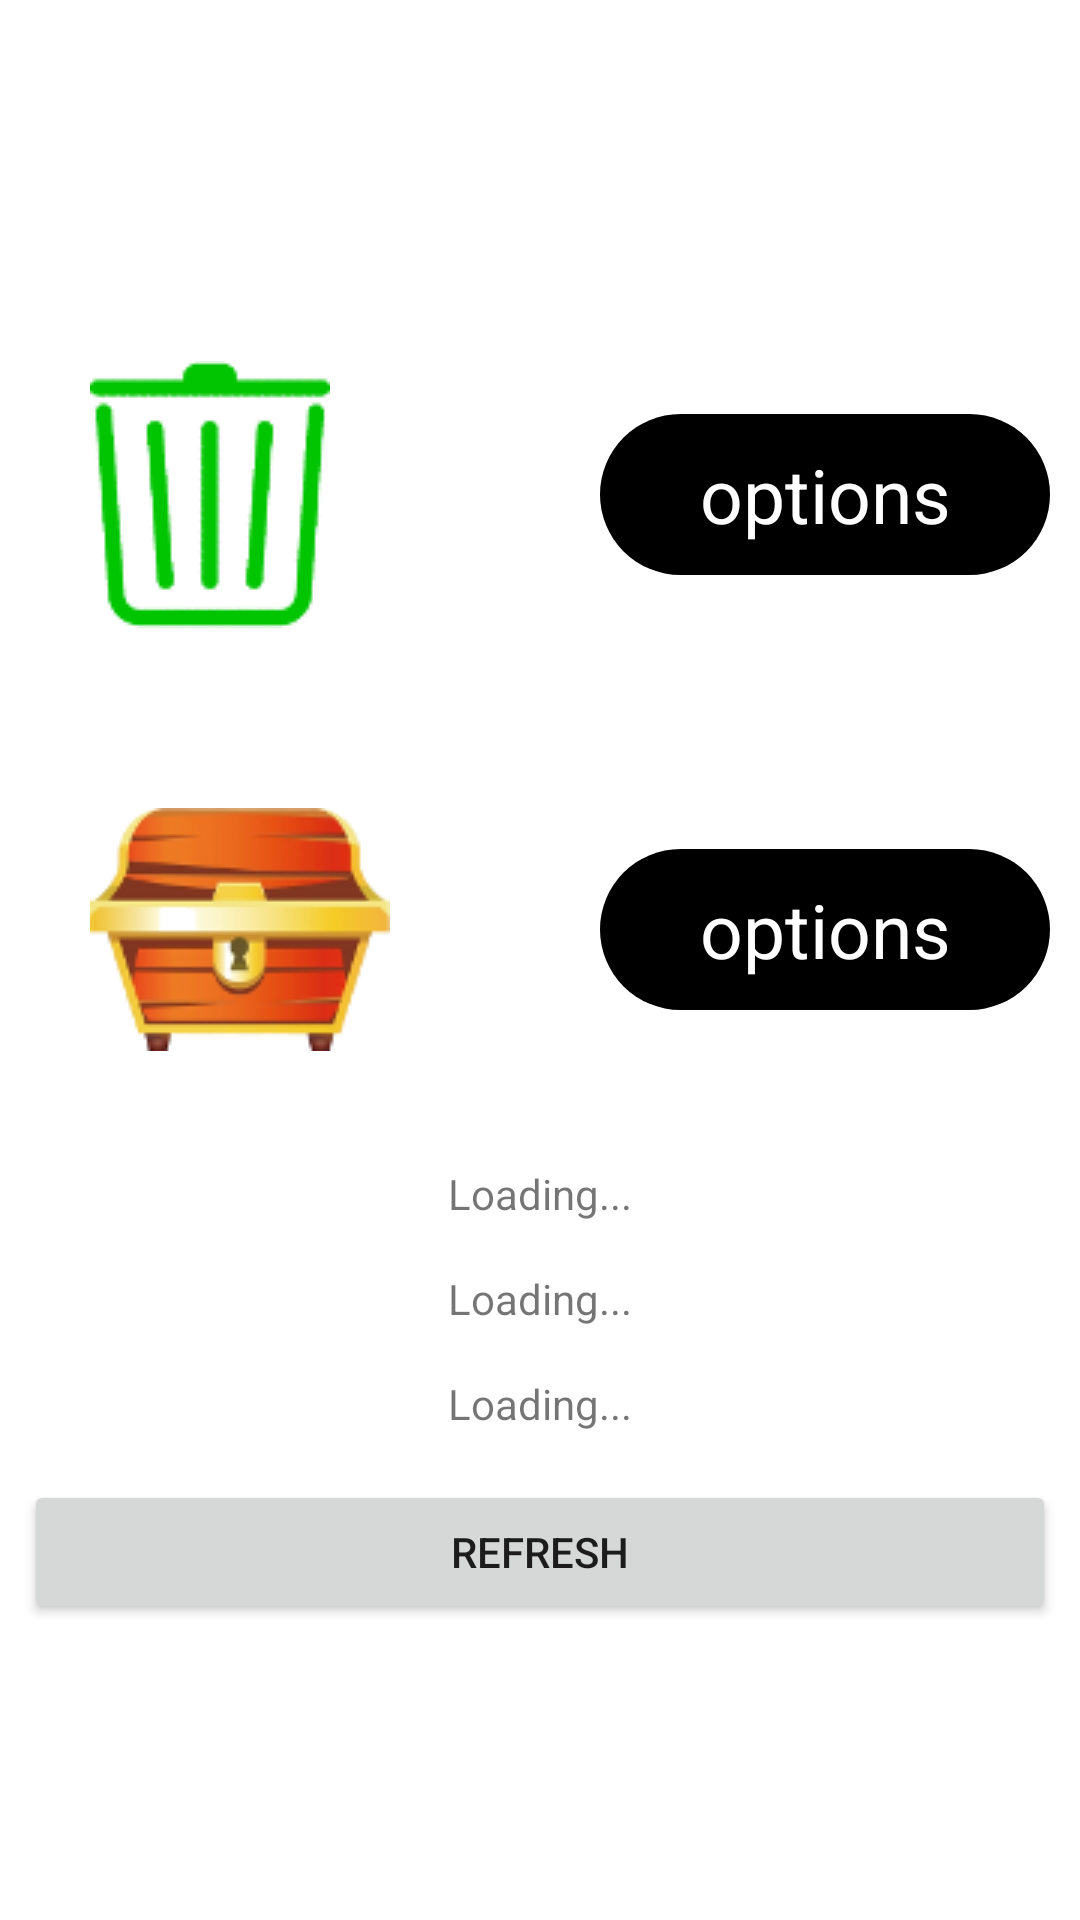

Where icons sit on this 1080px×1920px app screen, as (left=x1, top=y1, right=x2, bottom=y2):
can: (left=90, top=361, right=330, bottom=628)
chest: (left=90, top=808, right=390, bottom=1051)
